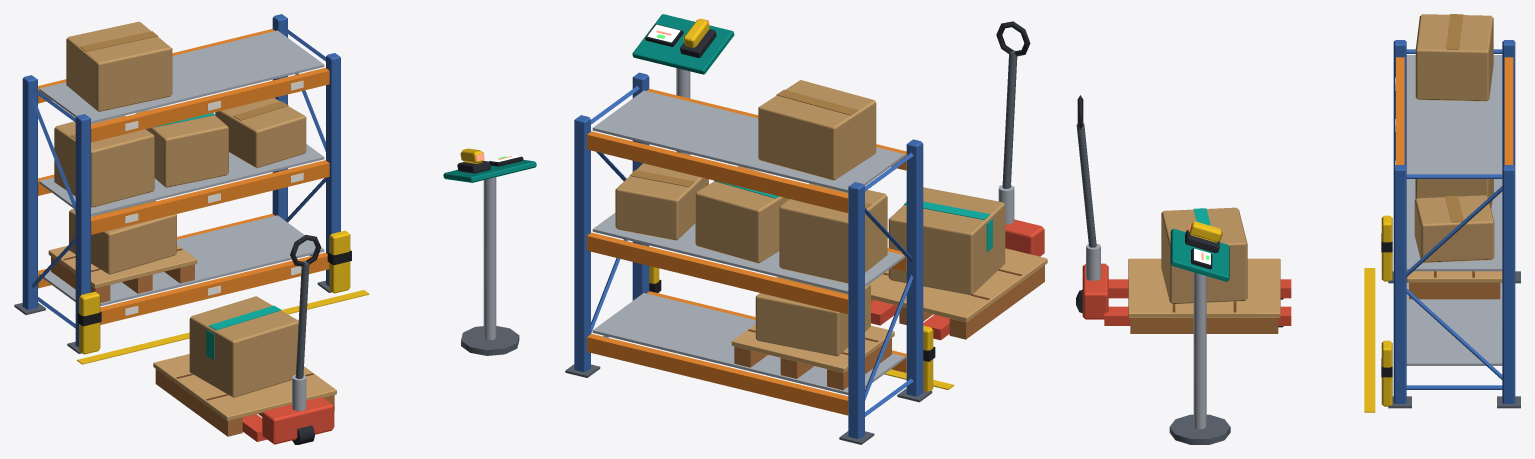
File: station_buffer_1.glb
The picture shows the model from 3 angles, left to right: view 1: azimuth 30°, elevation 25°; view 2: azimuth 150°, elevation 25°; view 3: azimuth 270°, elevation 25°; orthographic projection. The views are drawn at different scales.
Parts seen in each view (by area): view 1: station_buffer_1; view 2: station_buffer_1; view 3: station_buffer_1.
Boxes of the visible parts, bbox=[...] form: station_buffer_1: bbox=[14, 14, 536, 444]; station_buffer_1: bbox=[565, 14, 1047, 444]; station_buffer_1: bbox=[1076, 14, 1520, 444].
Bounding box in the file's own units: 1.96 × 1.41 × 2.04.
